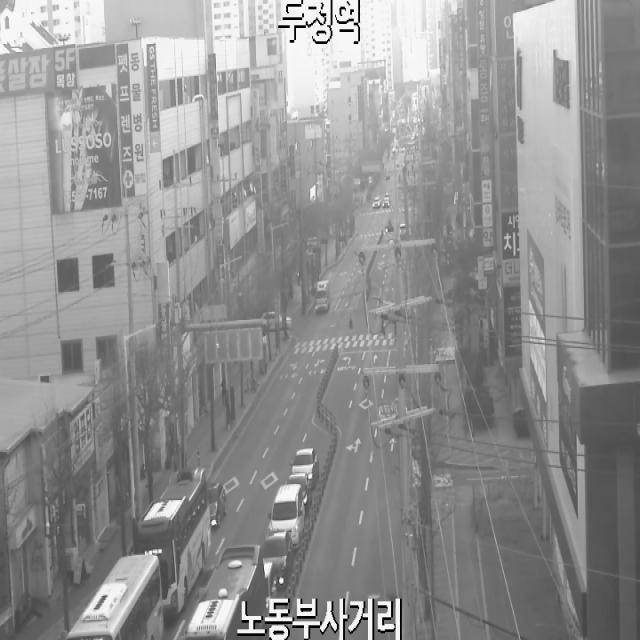Bus: (139, 468, 211, 617), (65, 554, 163, 640), (184, 546, 265, 640)
Car: (268, 484, 304, 549), (266, 530, 293, 589), (291, 448, 319, 484), (285, 473, 311, 511), (212, 482, 226, 528), (261, 312, 291, 329), (316, 280, 330, 314), (266, 561, 272, 608), (382, 193, 391, 208), (372, 197, 381, 209), (400, 224, 406, 237)
